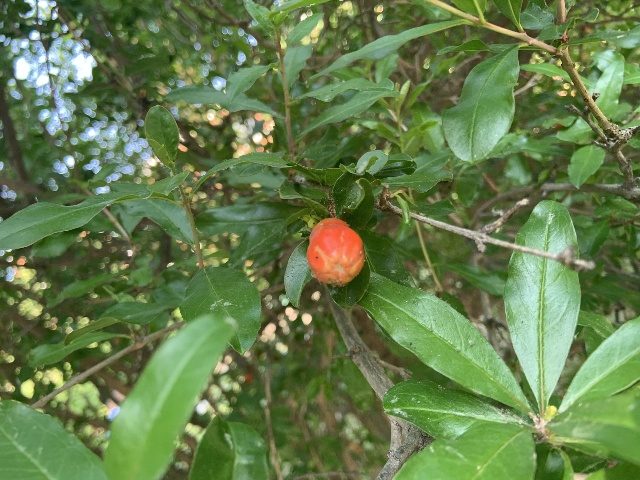bud: (306, 218, 364, 286)
